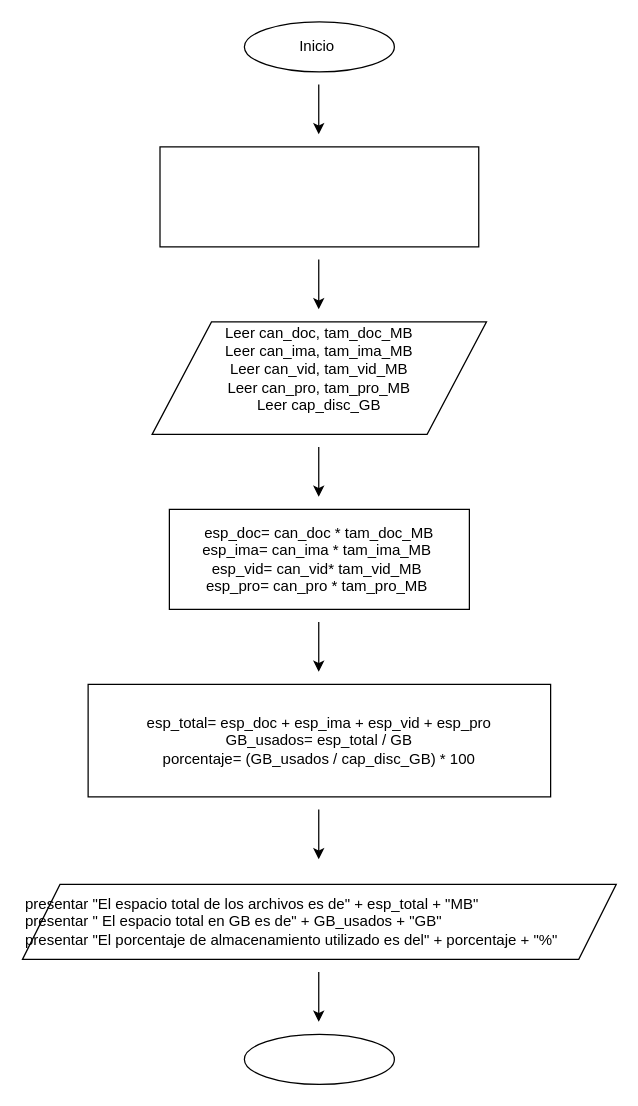
Image size: 638x1106. Some labels were removed from this diagram. The shapes that lost their labels are listed below. From the top down, each one's centre as x and y in pixels, then its label:
point (319, 196): esp_total = 0,0 GB_usados= 0,0 porcentaje= 0,0 GB= 1024
point (318, 1058): Fin
